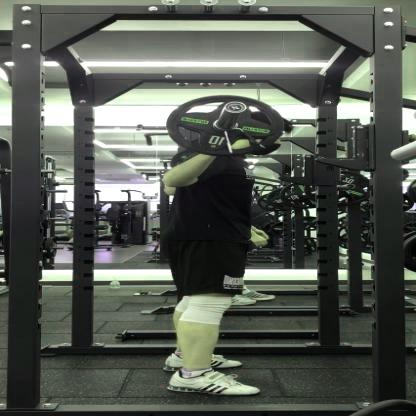Barbell: (219, 101, 247, 115)
